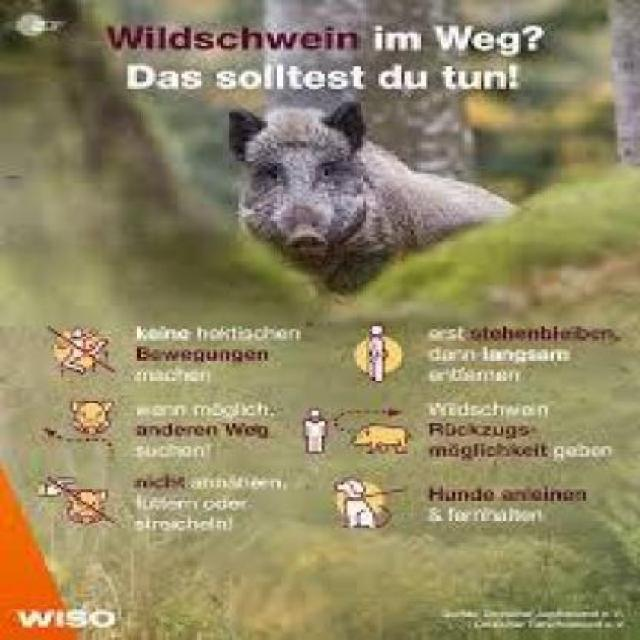wildboar: (207, 91, 551, 312)
